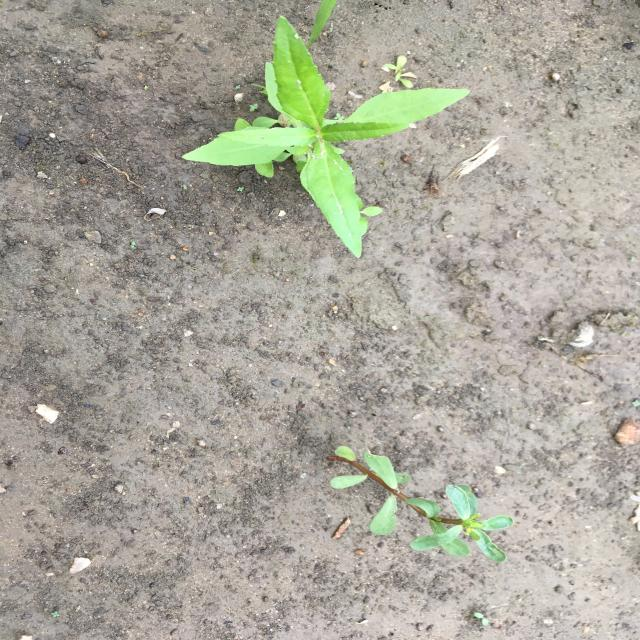Eclipta: (178, 14, 474, 260)
Purslane: (324, 445, 515, 567)
